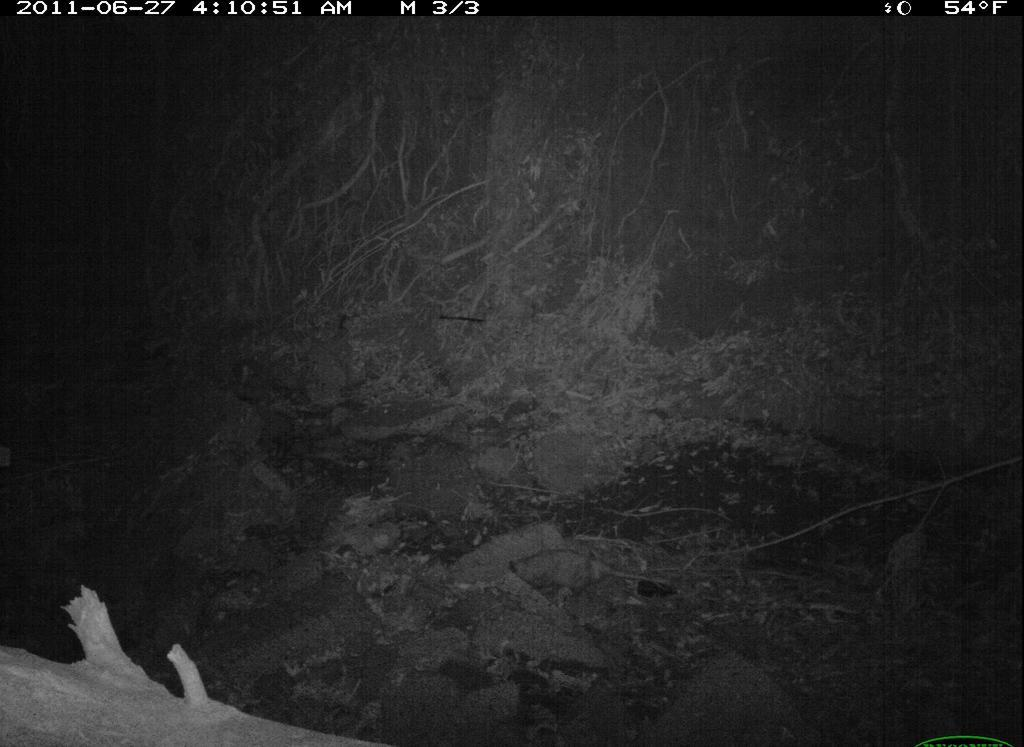opossum: (507, 541, 679, 615)
